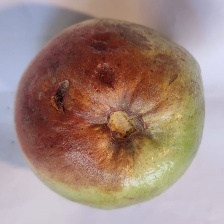guava: (48, 32, 201, 178)
